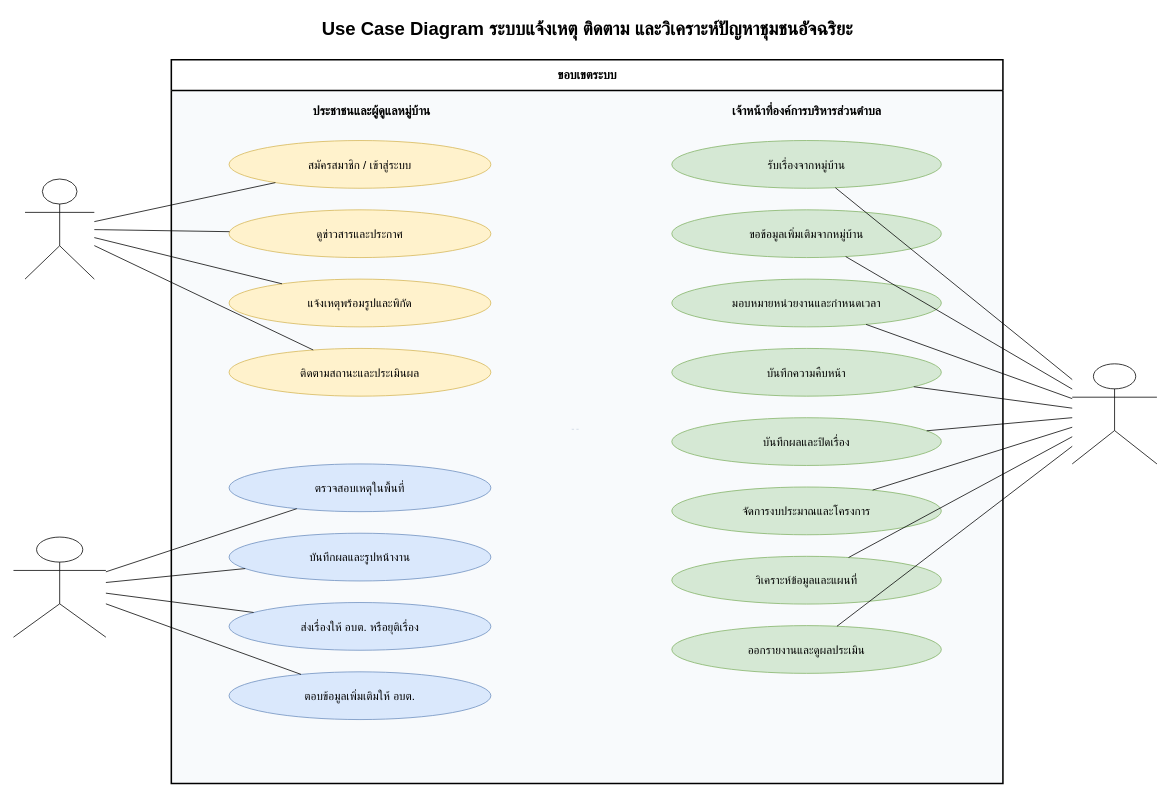
Some shapes in this 1170 by 797 pixel diagram are drawn without their labels. The centre of each missing label's shape, as x and y in pixels:
ประชาชน: pixel 59 228
ผู้ดูแลหมู่บ้าน: pixel 59 586
เจ้าหน้าที่ อบต.: pixel 1114 413
